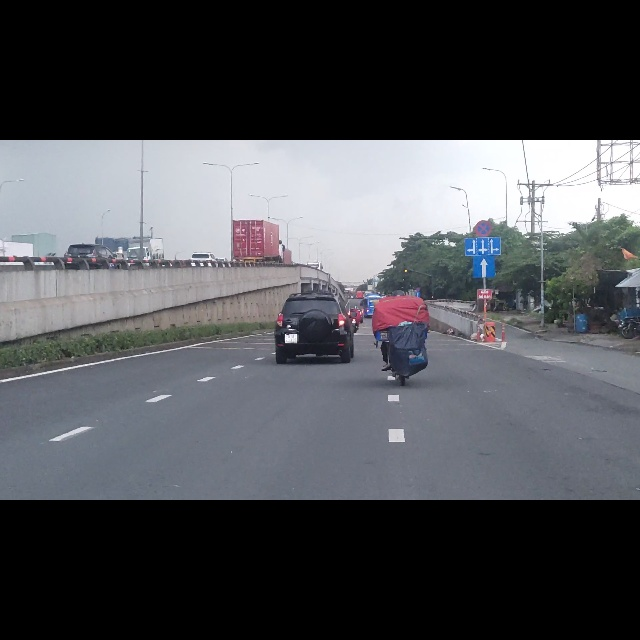bien_chi_dan: (473, 206, 495, 243), (473, 142, 493, 171)
